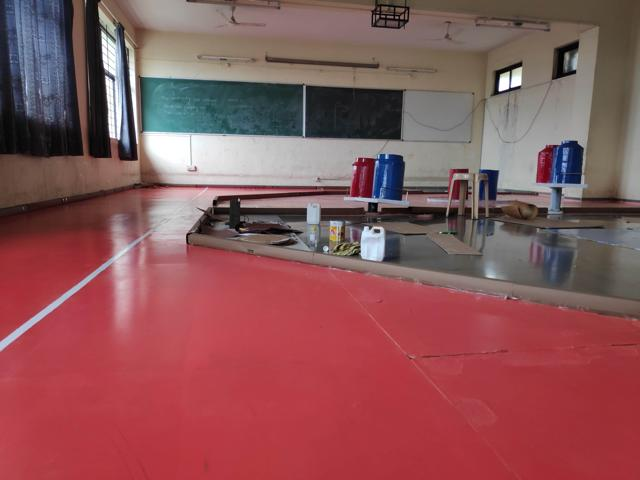Blue: (373, 154, 407, 198)
Red: (348, 158, 376, 198), (537, 146, 554, 182)
